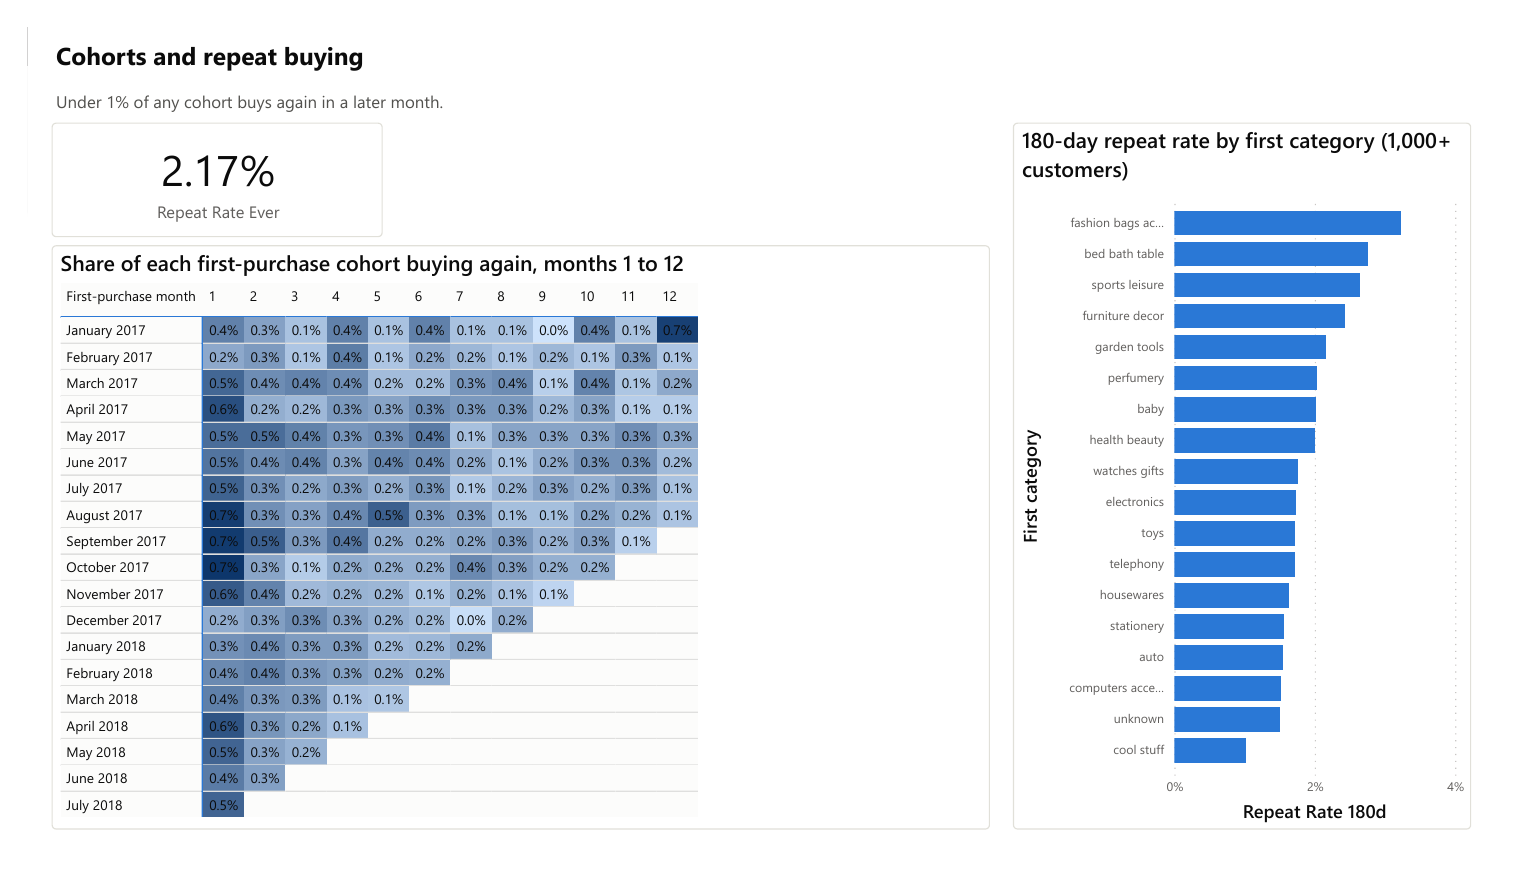

This screenshot's page, from the dashboard's own definition file:
{"tool":"powerbi","page":{"name":"Cohorts and repeat buying","canvas":[1280,720],"ordinal":3},"visuals":[{"type":"card","fields":{"Values":["_Measures.Repeat Rate Ever"]},"box":[20.5,83.3,289.7,100],"z":0},{"type":"pivotTable","title":"Share of each first-purchase cohort buying again, months 1 to 12","fields":{"Columns":["Cohorts.months_since_first_purchase"],"Values":["Sum(Cohorts.retention_rate)"],"Rows":["Cohorts.cohort_month"]},"box":[20.5,189.7,819.2,510.3],"z":1000},{"type":"barChart","title":"180-day repeat rate by first category (1,000+ customers)","fields":{"Y":["_Measures.Repeat Rate 180d"],"Category":["Customers.first_lead_category"]},"box":[860.3,83.3,400,616.7],"z":2000},{"type":"textbox","box":[20,5,1240,45],"z":3000},{"type":"textbox","box":[20,50,1240,36],"z":4000}]}

Visuals, with their boxes in screenshot pixels (x1, y1, x2, y2), scaled from the page's 1280x720 canvas onto the 1522x880 screenshot:
card - _Measures.Repeat Rate Ever: [left=24, top=102, right=369, bottom=224]
"Share of each first-purchase cohort buying again, months 1 to 12" pivotTable: [left=24, top=232, right=998, bottom=856]
"180-day repeat rate by first category (1,000+ customers)" barChart: [left=1023, top=102, right=1499, bottom=856]
textbox: [left=24, top=6, right=1498, bottom=61]
textbox: [left=24, top=61, right=1498, bottom=105]
